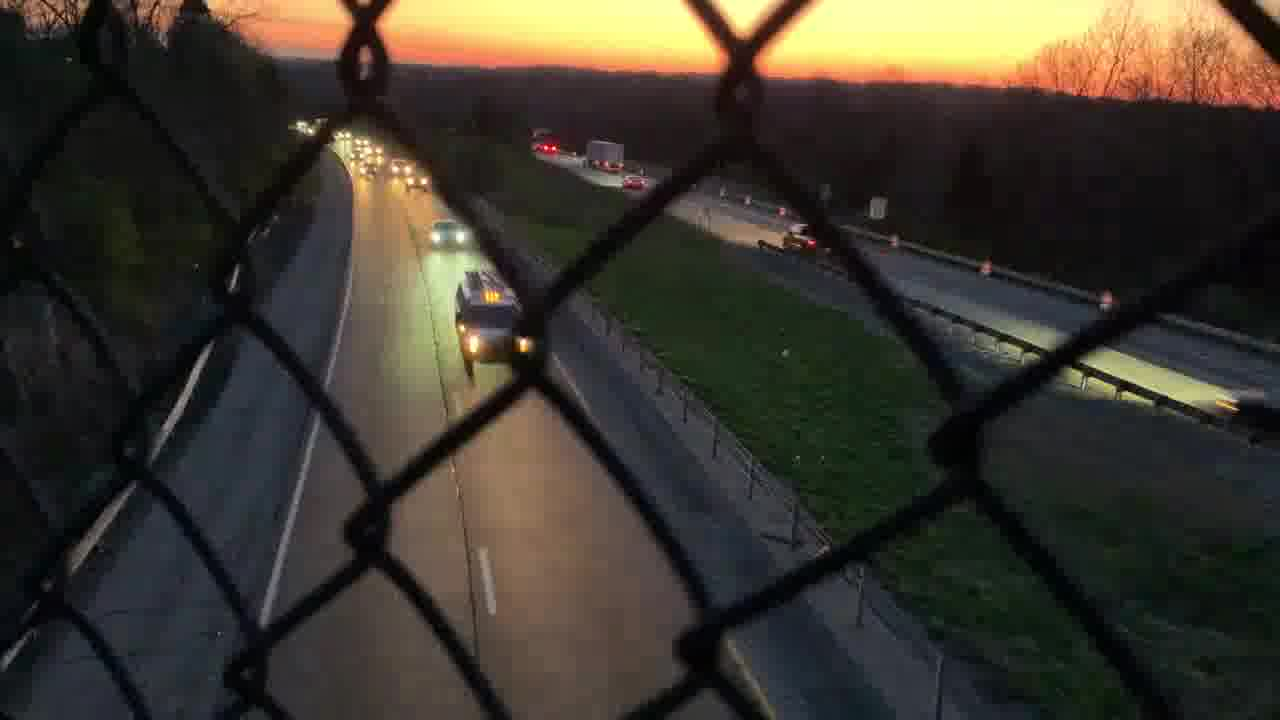heavyTruck: (580, 139, 627, 173)
lightTruck: (450, 269, 544, 376), (783, 220, 828, 258)
smallCar: (426, 218, 469, 252)
